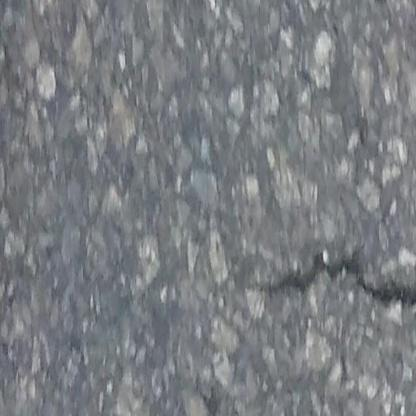Cracks: (247, 252, 416, 318)
